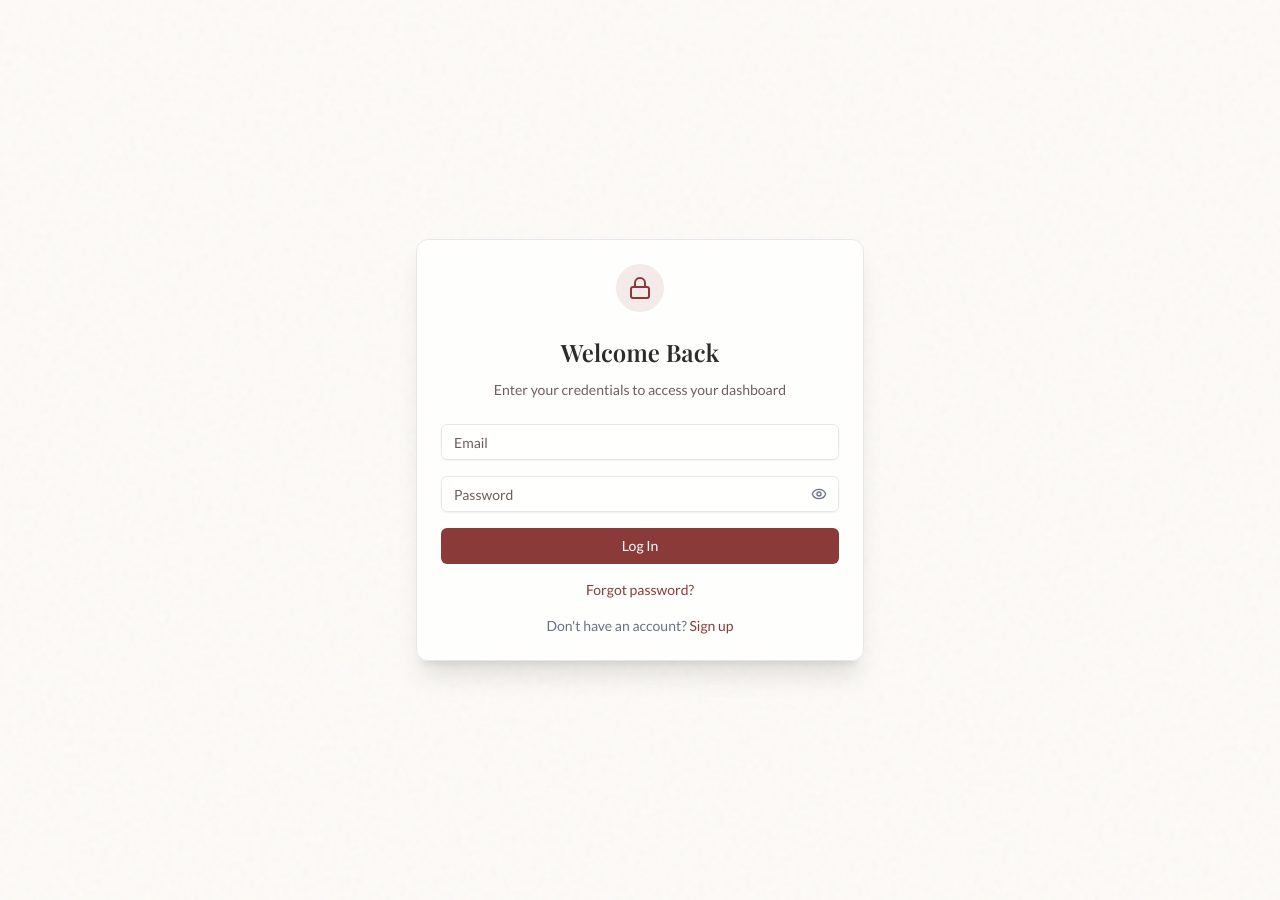
Test: LoginPage › Forgot Password › should close forgot password modal when cancel is clicked
The width and height of the screenshot is (1280, 900).
Note: Open modal
Click the button "Forgot password?": (640,590) [586,580,694,600]
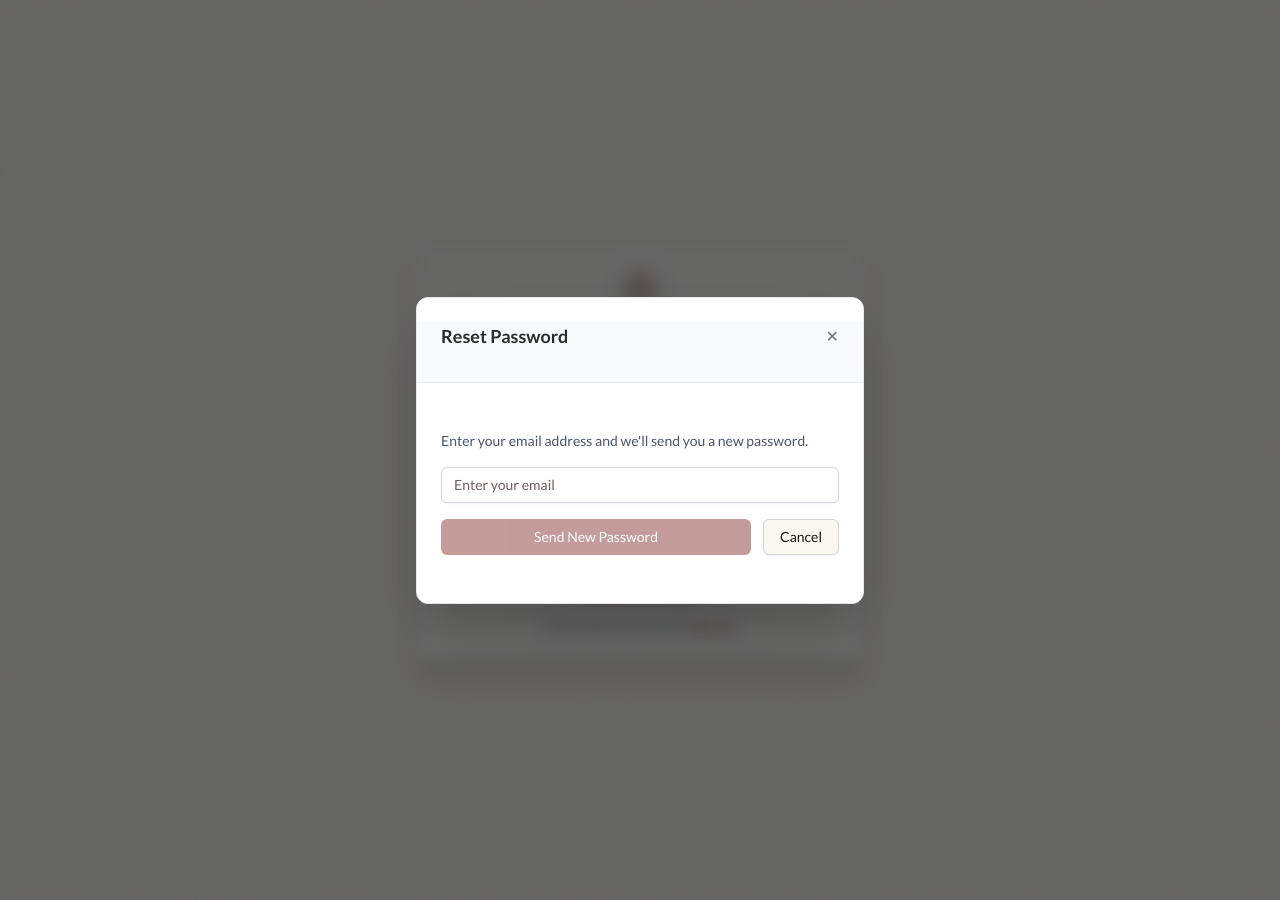
Note: Close modal
Click the button "Cancel": (801,536) [763,518,839,554]
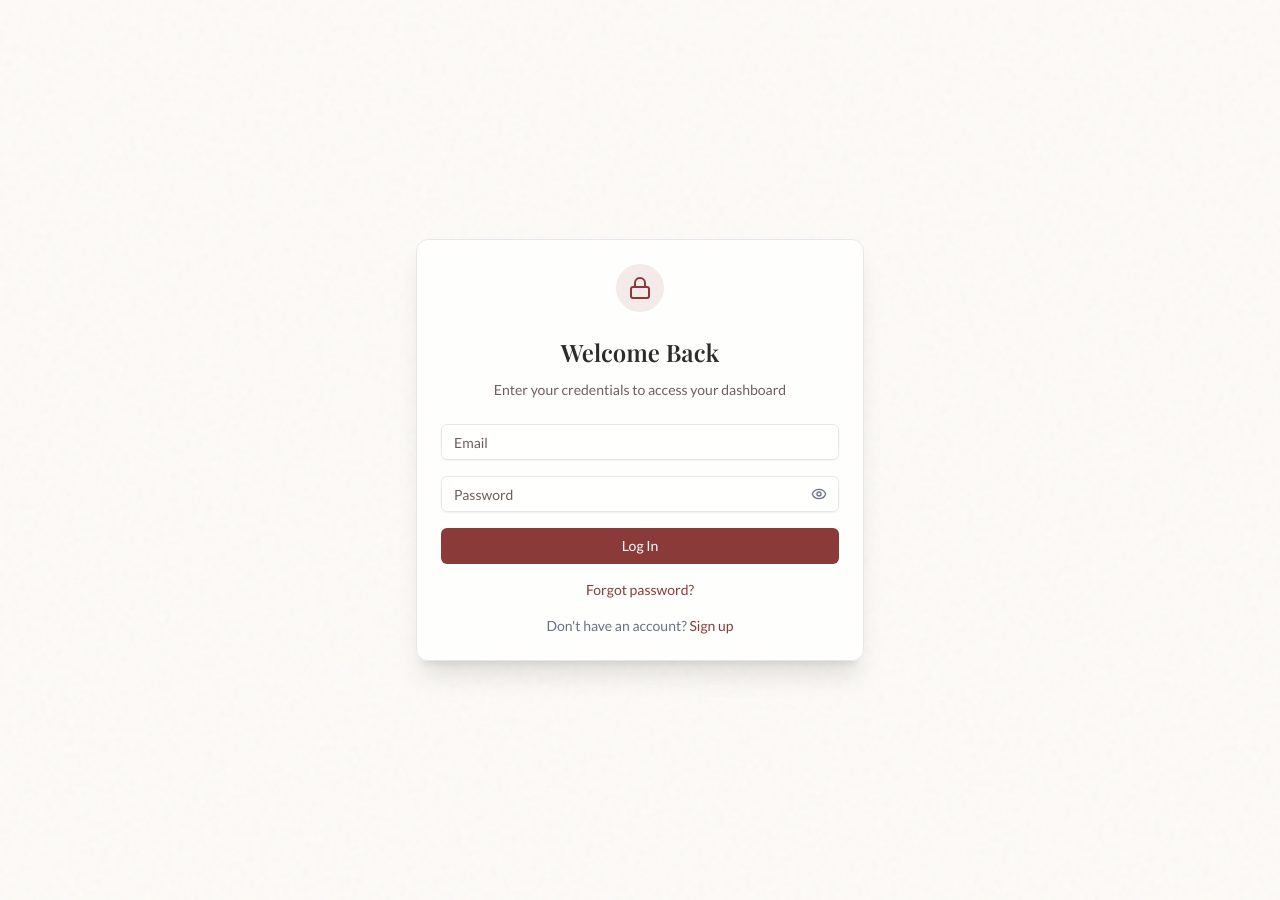
Expected: the text "Reset Password" is gone
